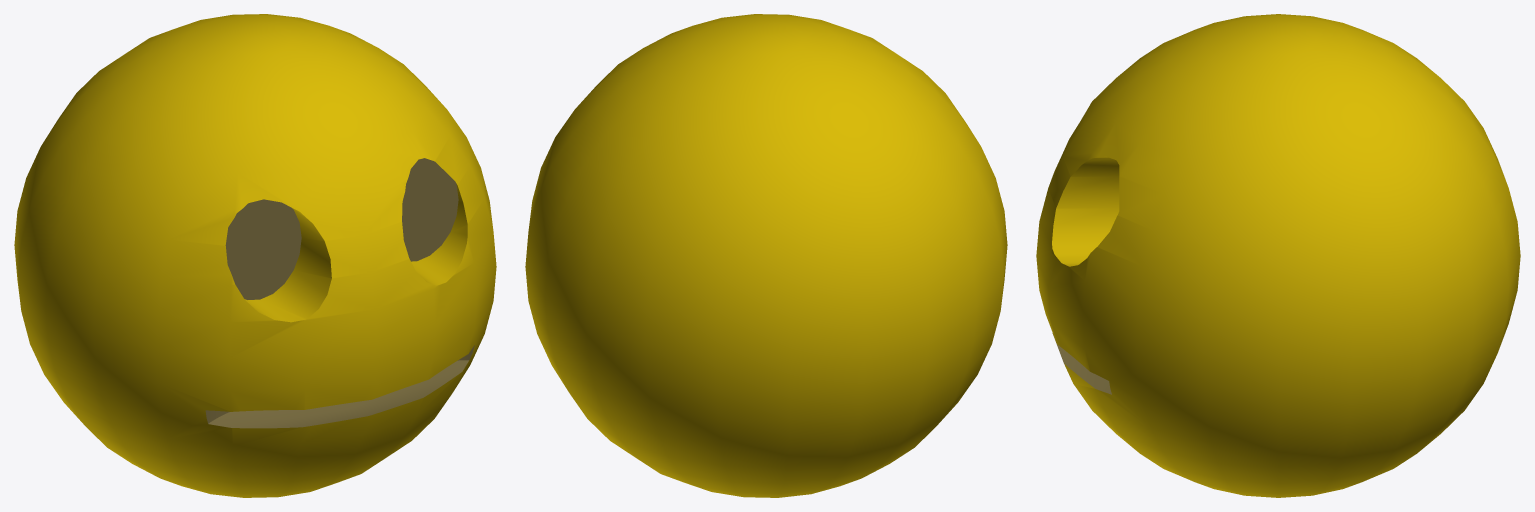
The model's file is Emoji_Neutral.fbx.
3 renders of one model, left to right at view 1: azimuth 30°, elevation 25°; view 2: azimuth 150°, elevation 25°; view 3: azimuth 270°, elevation 25°, orthographic.
Visible parts, largest first — view 1: pSphere5; view 2: pSphere5; view 3: pSphere5.
Part boxes in pixels (left/top/right/bottom): pSphere5: left=14, top=14, right=496, bottom=497; pSphere5: left=525, top=14, right=1007, bottom=497; pSphere5: left=1036, top=14, right=1520, bottom=497.
Bounding box in the file's own units: 8.32 × 8.32 × 8.32.
